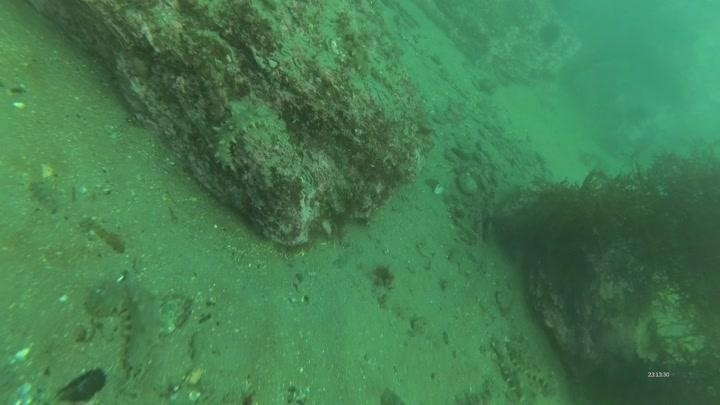echinus: (536, 19, 564, 48)
holothurian: (92, 280, 165, 380), (206, 97, 283, 177), (501, 335, 565, 403), (488, 335, 540, 404), (331, 4, 375, 81)
